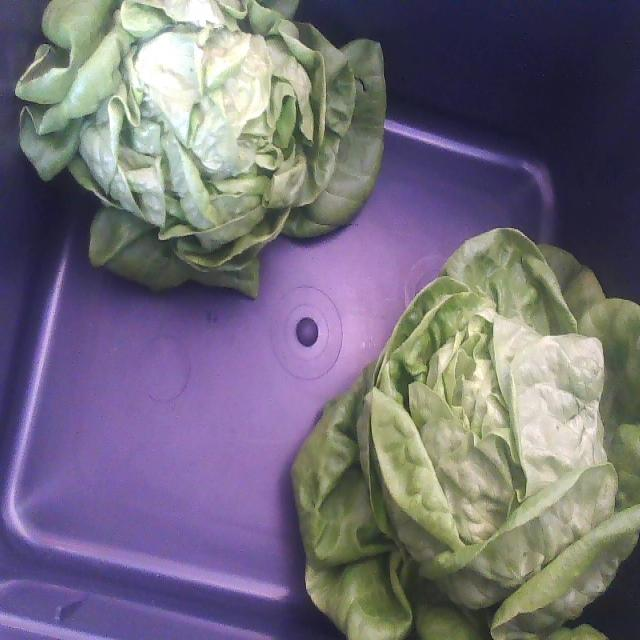lettuce: (292, 229, 639, 639), (16, 0, 385, 296)
